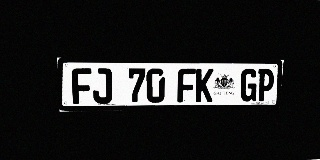0: (146, 68, 165, 103)
7: (127, 68, 146, 103)
F: (71, 68, 92, 104), (177, 68, 196, 102)
G: (240, 69, 258, 101)
J: (92, 68, 112, 104)
K: (195, 69, 214, 102)
P: (256, 69, 275, 101)
